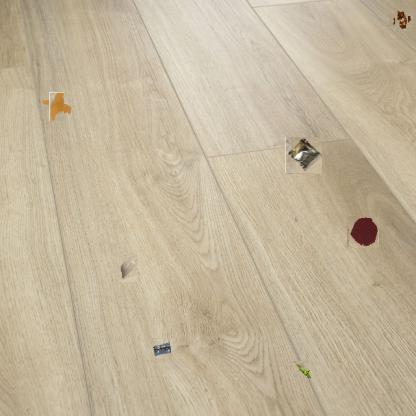dirty: (286, 137, 322, 174), (116, 256, 140, 280), (150, 338, 172, 358), (292, 362, 312, 382), (392, 10, 411, 30)
liquid: (348, 216, 378, 248), (46, 95, 67, 118)
